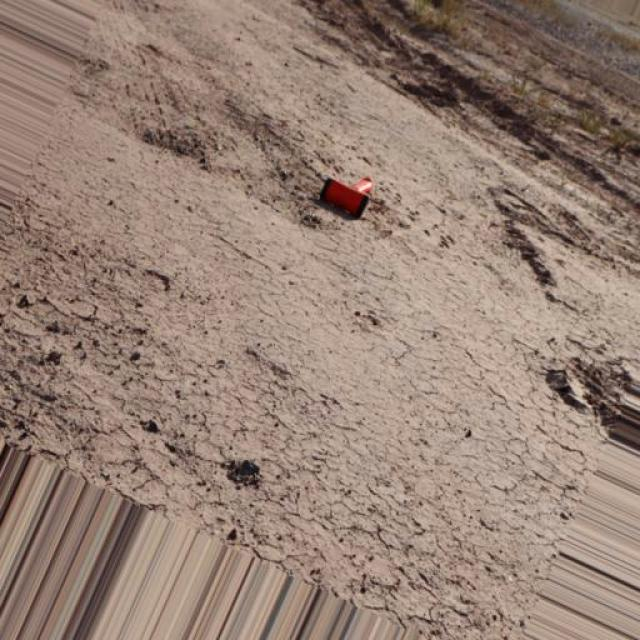mallet: (320, 174, 376, 218)
